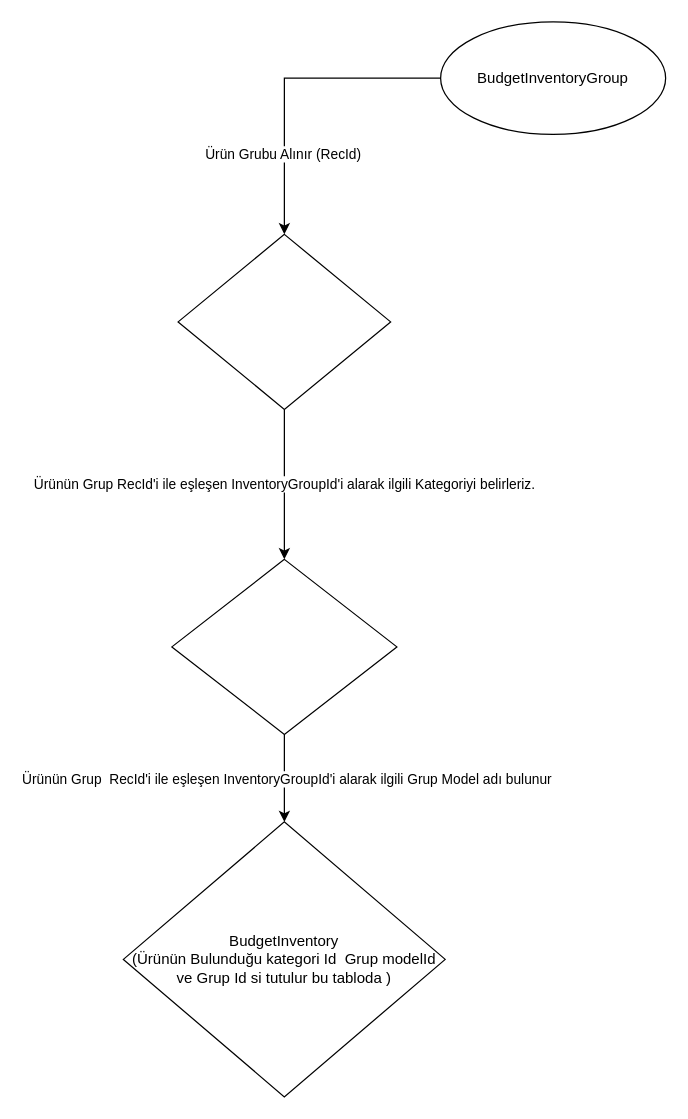
This 688x1119 diagram has some shape labels left out. Here are the shapes that lost their labels. From the top down, the centre of each, then its label:
point 284,321: BudgetInventoryCategory
point 284,646: BudgetInventoryGroupModel
